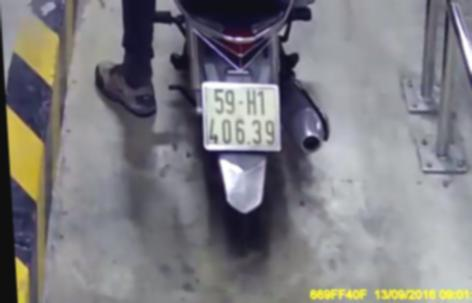License_Plate: (192, 77, 286, 158)
